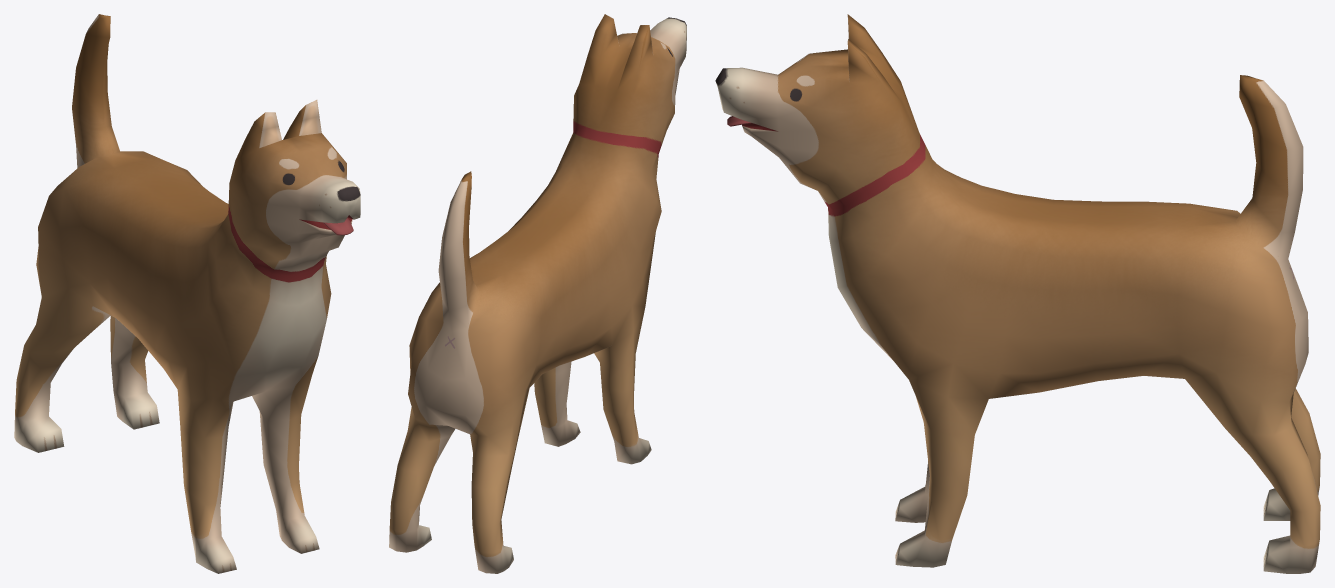
The model's file is testDog.fbx.
3 views of the same model, side by side, from view 1: azimuth 30°, elevation 25°; view 2: azimuth 150°, elevation 25°; view 3: azimuth 270°, elevation 25° (orthographic). The views are drawn at different scales.
Parts seen in each view (by area): view 1: body; view 2: body; view 3: body.
Boxes of the visible parts, x1,y1,x2,y2 form: body: (14, 14, 360, 573); body: (389, 14, 686, 573); body: (715, 14, 1320, 573).
Size of the model in its own units: 47.27 by 163 by 174.
